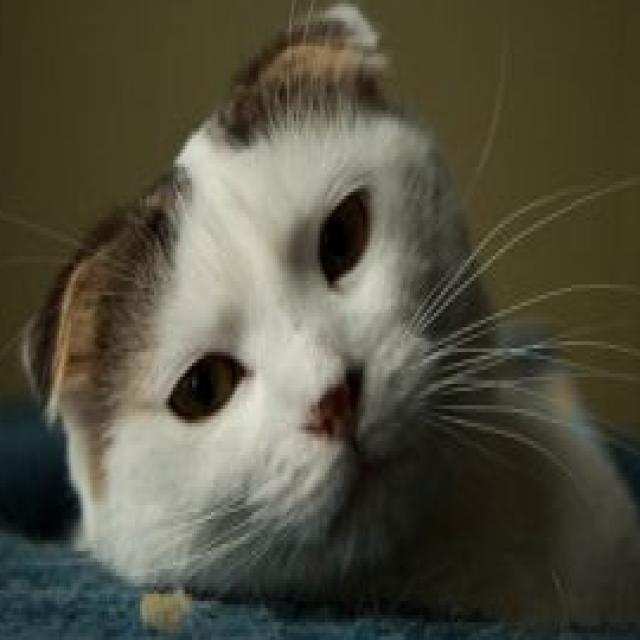Scottish Fold: (7, 0, 640, 633)
